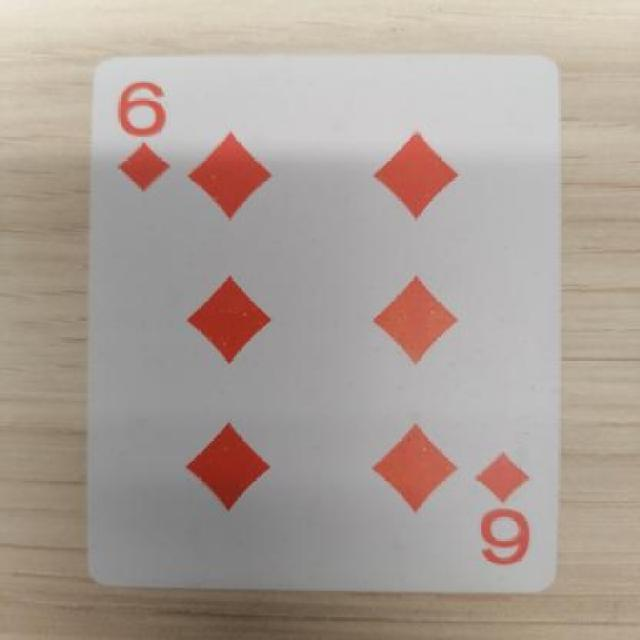6D: (101, 70, 205, 208), (462, 433, 546, 585)
